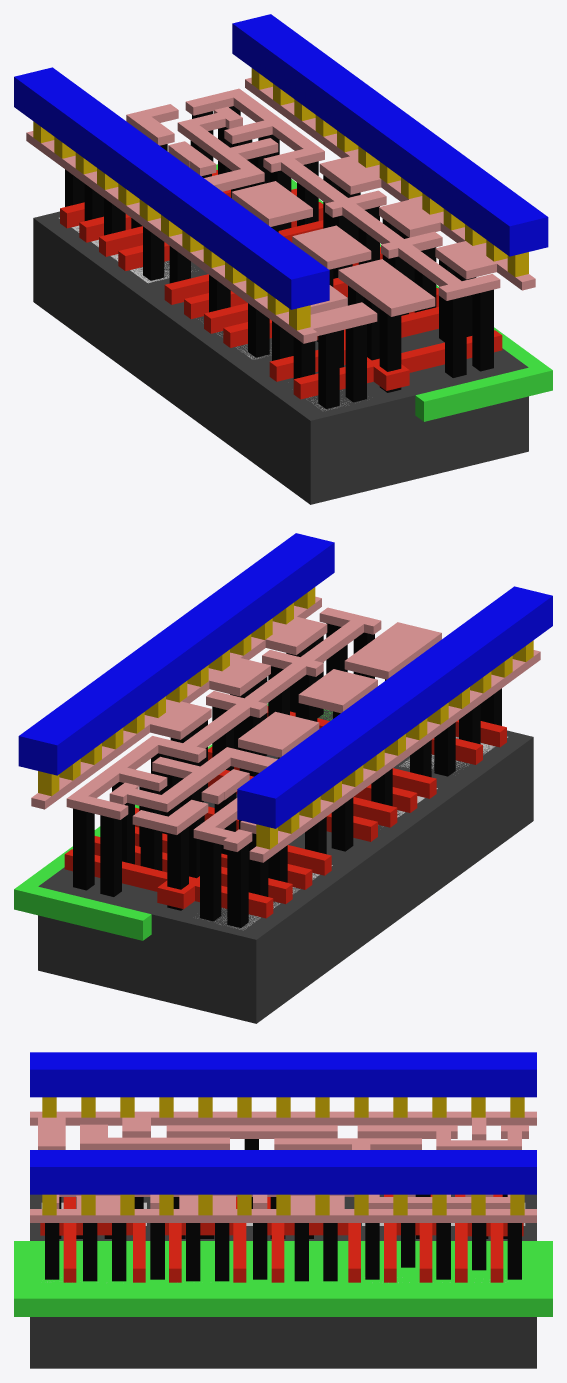
File: sky130_fd_sc_hd__a32oi_2.obj
The picture shows the model from 3 angles, top to bottom: view 1: azimuth 30°, elevation 25°; view 2: azimuth 150°, elevation 25°; view 3: azimuth 270°, elevation 25°; orthographic projection. The views are drawn at different scales.
Visible parts, largest first — view 1: subs, metal1, li, licon, poly, mcon, nwell; view 2: subs, metal1, li, licon, poly, mcon, nwell; view 3: metal1, nwell, subs, li, licon, poly, mcon.
Boxes of the visible parts, box(x1,y1,x2,y2) form: subs: box(33, 211, 528, 504); metal1: box(14, 14, 548, 309); li: box(26, 77, 535, 343); licon: box(65, 106, 493, 408); poly: box(60, 170, 502, 399); mcon: box(33, 68, 528, 330); nwell: box(216, 164, 552, 421); subs: box(38, 709, 533, 1023); metal1: box(18, 533, 552, 828); li: box(31, 596, 540, 862); licon: box(73, 623, 501, 927); poly: box(64, 706, 506, 918); mcon: box(38, 587, 533, 849); nwell: box(14, 703, 332, 940); metal1: box(30, 1052, 536, 1194); nwell: box(14, 1241, 552, 1316); subs: box(30, 1194, 536, 1368); li: box(30, 1111, 536, 1222); licon: box(45, 1139, 521, 1281); poly: box(40, 1194, 523, 1282); mcon: box(42, 1097, 524, 1215).
Size of the model in its own units: 3.2 by 2.74 by 6.36.
